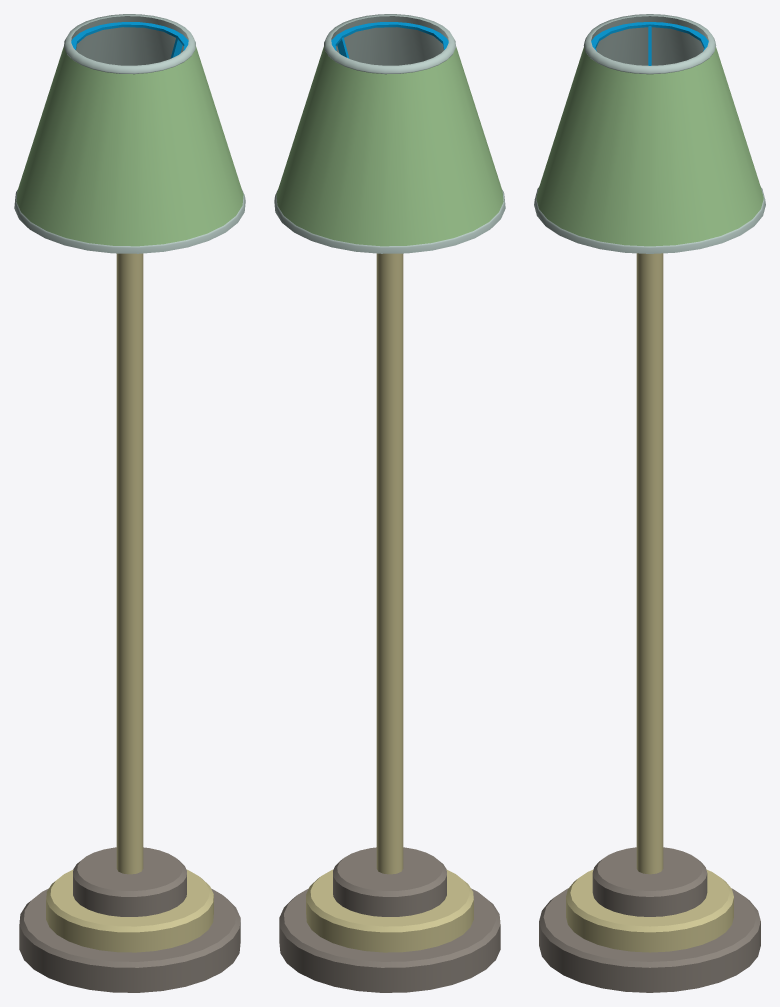
File: lampRoundFloor.fbx
The picture shows the model from 3 angles, left to right: view 1: azimuth 30°, elevation 25°; view 2: azimuth 150°, elevation 25°; view 3: azimuth 270°, elevation 25°; orthographic projection.
Visible parts, largest first — view 1: lampRoundFloor; view 2: lampRoundFloor; view 3: lampRoundFloor.
Part boxes in pixels (left/top/right/bottom): lampRoundFloor: left=14, top=14, right=245, bottom=992; lampRoundFloor: left=274, top=14, right=505, bottom=992; lampRoundFloor: left=534, top=14, right=765, bottom=992.
Size of the model in its own units: 41.86 by 180 by 41.86.
